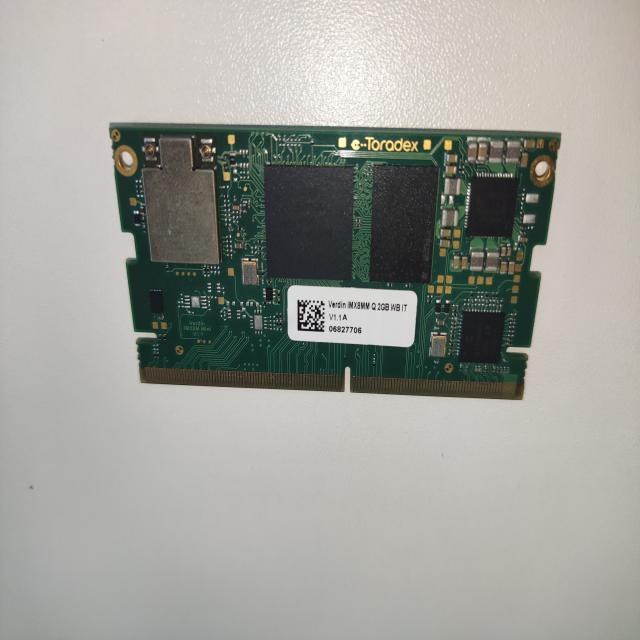som: (90, 96, 583, 425)
